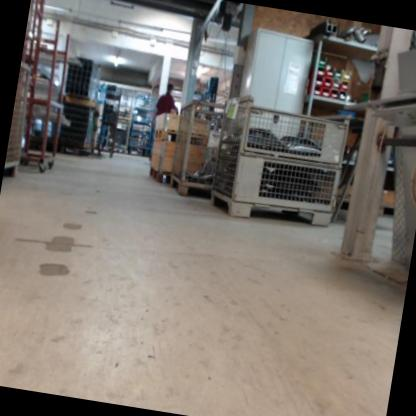pallet: (151, 125, 209, 151), (146, 165, 174, 186)
stillage: (207, 94, 352, 231), (166, 95, 228, 200), (3, 61, 38, 176), (105, 120, 133, 154)
